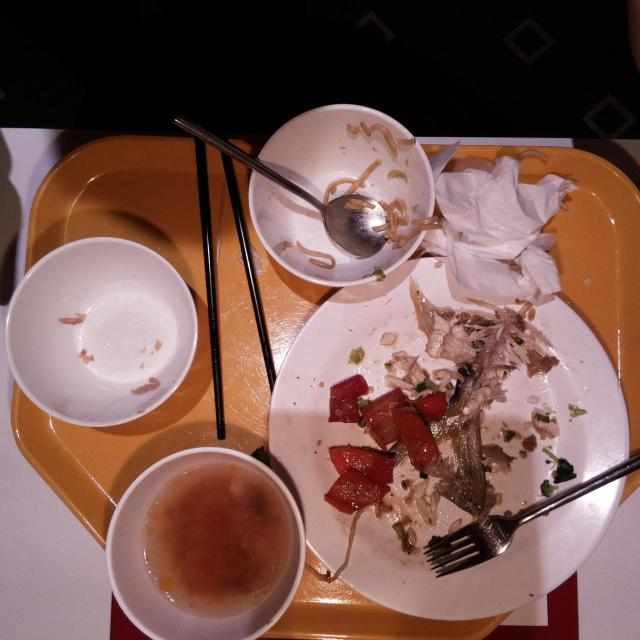Bone-fish: (462, 296, 554, 423)
